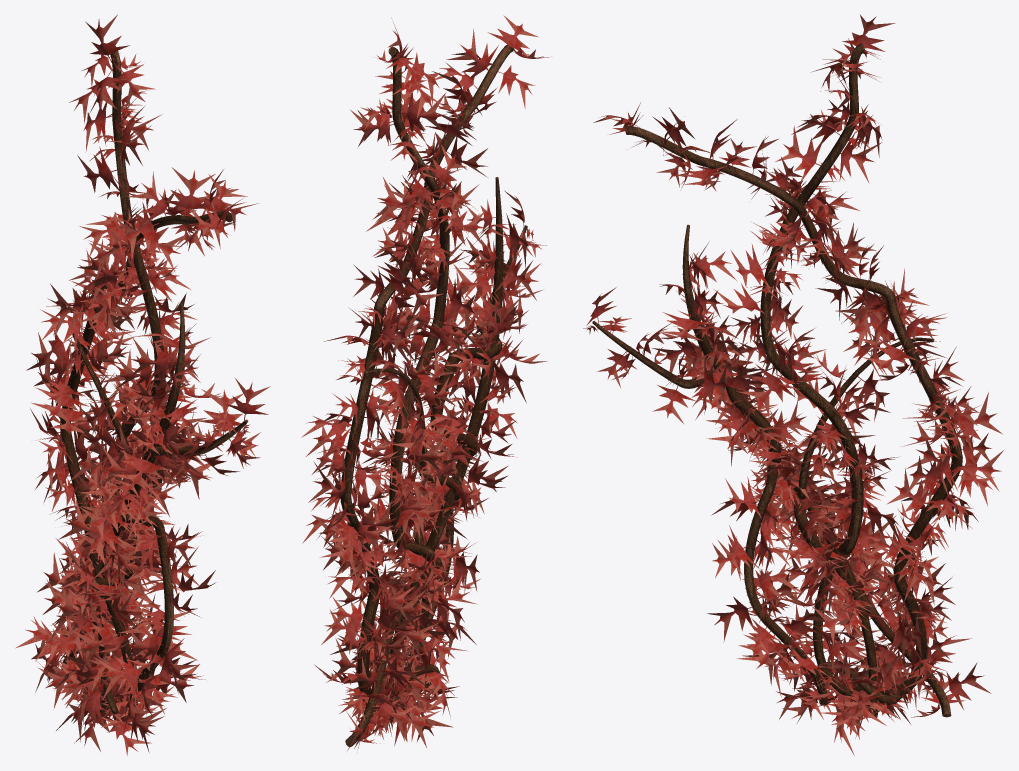
Rendered from m_temple_copperivy_01.fbx.
3 views of the same model, side by side, from view 1: azimuth 30°, elevation 25°; view 2: azimuth 150°, elevation 25°; view 3: azimuth 270°, elevation 25° (orthographic).
Visible parts, largest first — view 1: m_robotivy_branches; view 2: m_robotivy_branches; view 3: m_robotivy_branches.
Boxes of the visible parts, x1=… form: m_robotivy_branches: x1=15, y1=14, x2=270, y2=755; m_robotivy_branches: x1=301, y1=15, x2=551, y2=750; m_robotivy_branches: x1=583, y1=14, x2=1003, y2=755.
Bounding box in the file's own units: 108 × 586 × 306.
